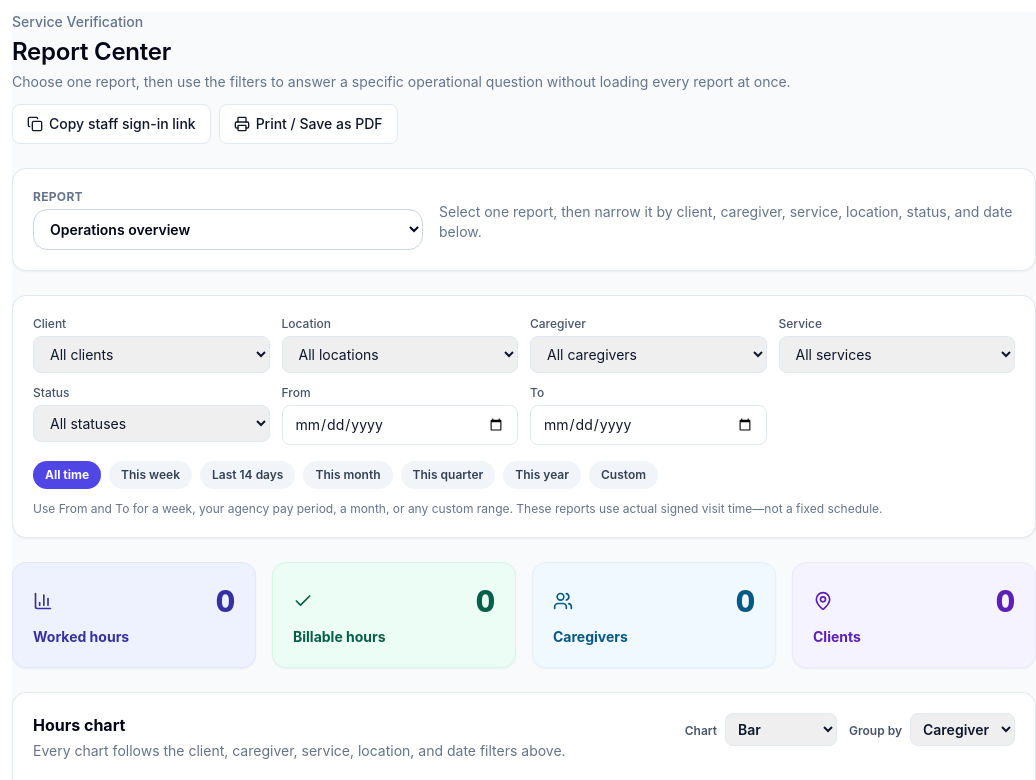
Test: ServiceVerificationReportsPage › opens a named caregiver folder and preserves it in the report link
Select "Caregiver hours" in the dropdown labelled "Report" at (228, 230), box [33,209,423,250]
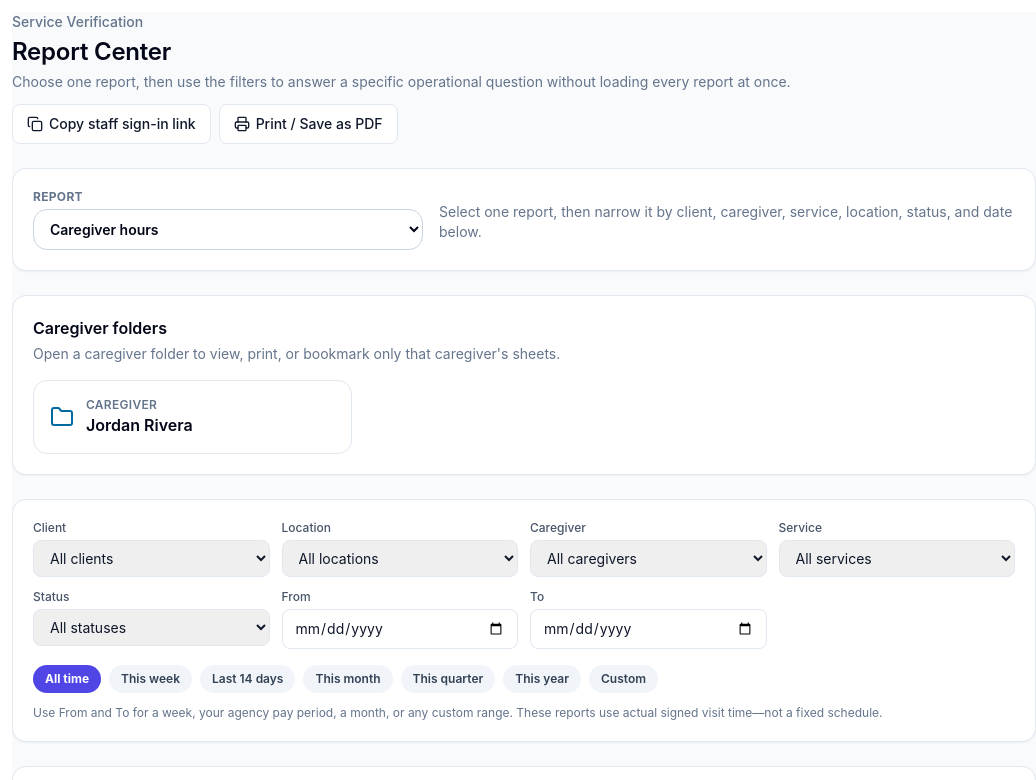
Click the button "Caregiver Jordan Rivera" at (193, 417), box [33,380,352,454]
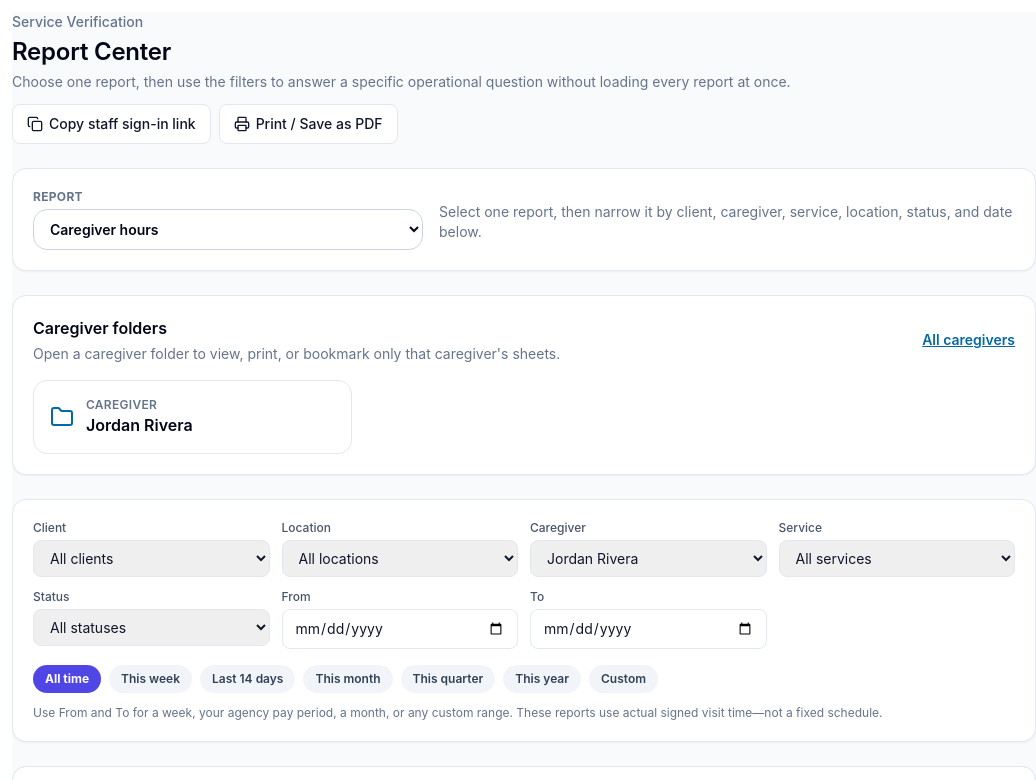
Expected: the button "All caregivers" is shown, [922,330,1015,350]
